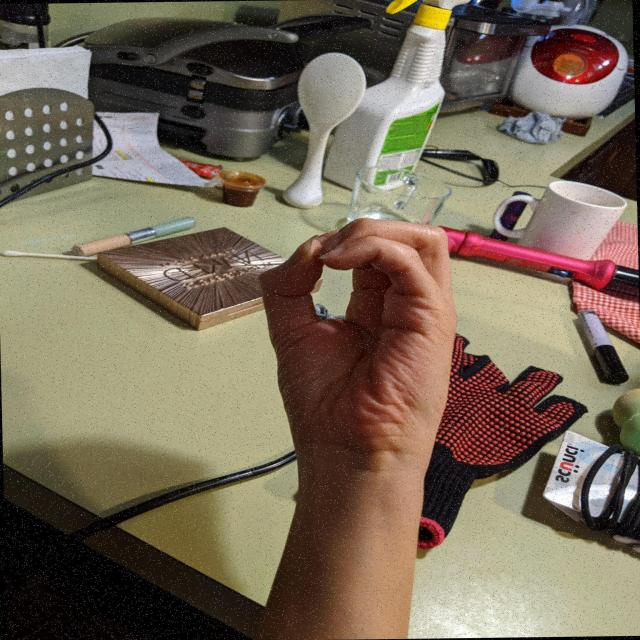O: (250, 213, 469, 474)
